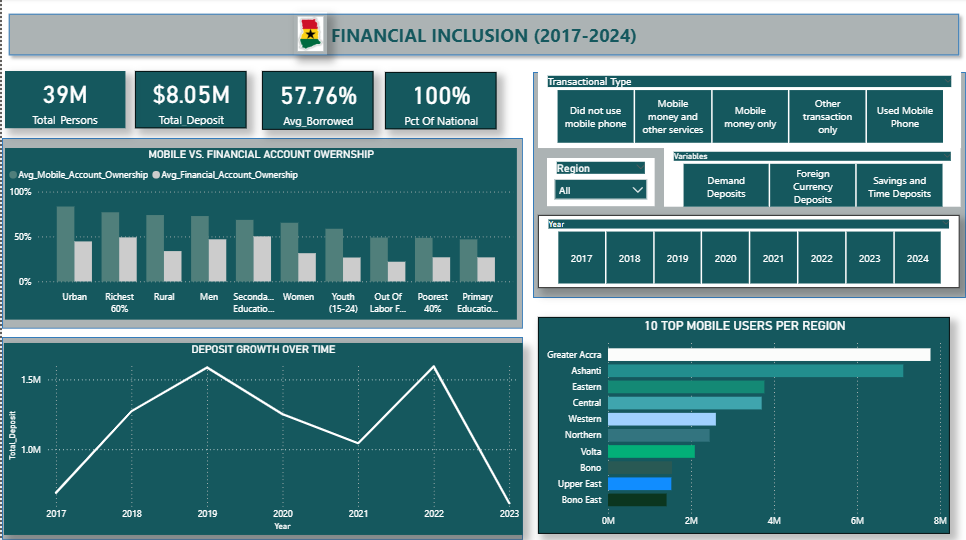

This screenshot's page, from the dashboard's own definition file:
{"tool":"powerbi","page":{"name":"Page 1","canvas":[1280,720],"ordinal":0},"visuals":[{"type":"shape","box":[0,11.7,1280.5,73.2],"z":0},{"type":"shape","box":[0,450.7,692.2,269.3],"z":1000},{"type":"lineChart","title":"DEPOSIT GROWTH OVER TIME","fields":{"Category":["financial_inclusion db money_supply.Year"],"Y":["financial_inclusion db money_supply.Total_Deposit"]},"box":[2.9,458,689.3,254.6],"z":2000},{"type":"shape","box":[705.4,98,575.1,300],"z":3000},{"type":"clusteredBarChart","title":"10 TOP MOBILE USERS PER REGION","fields":{"Category":["financial_inclusion db interest_rate.Region"],"Y":["financial_inclusion db interest_rate.Total_Mobile_Users"]},"box":[712.7,424.4,547.3,288.3],"z":4000},{"type":"card","fields":{"Values":["financial_inclusion db money_supply.Total_Deposit"]},"box":[177.1,96.6,147.8,76.1],"z":5000},{"type":"shape","box":[0,185.9,692.2,253.2],"z":6000},{"type":"card","fields":{"Values":["financial_inclusion db interest_rate.Total_Mobile_Users"]},"box":[4.4,96.6,159.5,76.1],"z":7000},{"type":"slicer","fields":{"Values":["financial_inclusion db money_supply.Variables"]},"box":[879.5,199,393.7,77.6],"z":8000},{"type":"slicer","fields":{"Values":["financial_inclusion db interest_rate.Region"]},"box":[724.4,212.2,143.4,64.4],"z":9000},{"type":"image","box":[387.8,19,43.9,57.1],"z":10000},{"type":"slicer","fields":{"Values":["financial_inclusion db interest_rate.Transactional Type"]},"box":[712.7,98,562,101],"z":11000},{"type":"slicer","fields":{"Values":["YearTable.Year"]},"box":[712.7,288.3,560.5,96.6],"z":12000},{"type":"clusteredColumnChart","title":"MOBILE VS. FINANCIAL ACCOUNT OWERNSHIP","fields":{"Category":["financial_inclusion db mobile_money.Demographic Group"],"Y":["financial_inclusion db mobile_money.Avg_Mobile_Account_Ownership","financial_inclusion db mobile_money.Avg_Financial_Account_Ownership"]},"box":[4.4,199,680.5,228.3],"z":13000},{"type":"card","fields":{"Values":["financial_inclusion db mobile_money.Avg_Borrowed"]},"box":[345.4,96.6,147.8,77.6],"z":14000},{"type":"card","fields":{"Values":["financial_inclusion db interest_rate.PctOfNational"]},"box":[509.3,98,147.8,76.1],"z":15000}]}

Visuals, with their boxes in screenshot pixels (x1, y1, x2, y2), scaled from the page's 1280x720 canvas onto the 966x540 screenshot:
shape: bbox(0, 9, 965, 64)
shape: bbox(0, 338, 522, 539)
"DEPOSIT GROWTH OVER TIME" lineChart: bbox(2, 344, 522, 534)
shape: bbox(532, 74, 965, 298)
"10 TOP MOBILE USERS PER REGION" clusteredBarChart: bbox(538, 318, 951, 535)
card - financial_inclusion db money_supply.Total_Deposit: bbox(134, 72, 245, 130)
shape: bbox(0, 139, 522, 329)
card - financial_inclusion db interest_rate.Total_Mobile_Users: bbox(3, 72, 124, 130)
slicer - financial_inclusion db money_supply.Variables: bbox(664, 149, 961, 207)
slicer - financial_inclusion db interest_rate.Region: bbox(547, 159, 655, 207)
image: bbox(293, 14, 326, 57)
slicer - financial_inclusion db interest_rate.Transactional Type: bbox(538, 74, 962, 149)
slicer - YearTable.Year: bbox(538, 216, 961, 289)
"MOBILE VS. FINANCIAL ACCOUNT OWERNSHIP" clusteredColumnChart: bbox(3, 149, 517, 320)
card - financial_inclusion db mobile_money.Avg_Borrowed: bbox(261, 72, 372, 131)
card - financial_inclusion db interest_rate.PctOfNational: bbox(384, 74, 496, 131)
